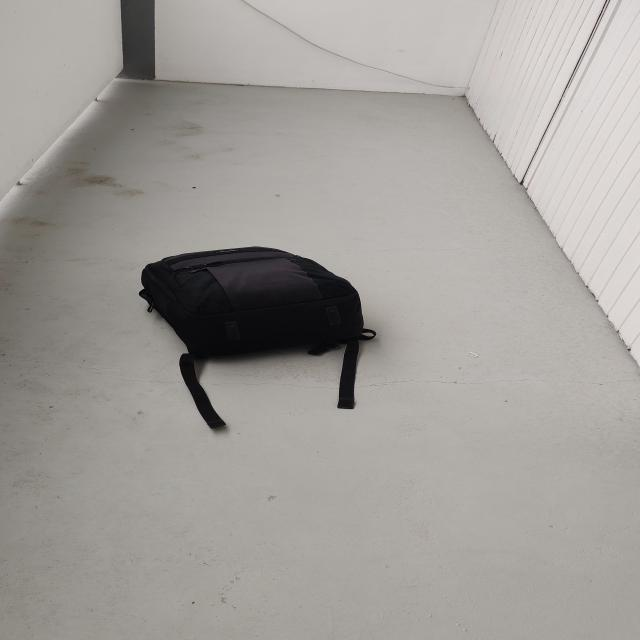backpack: (127, 242, 377, 366)
